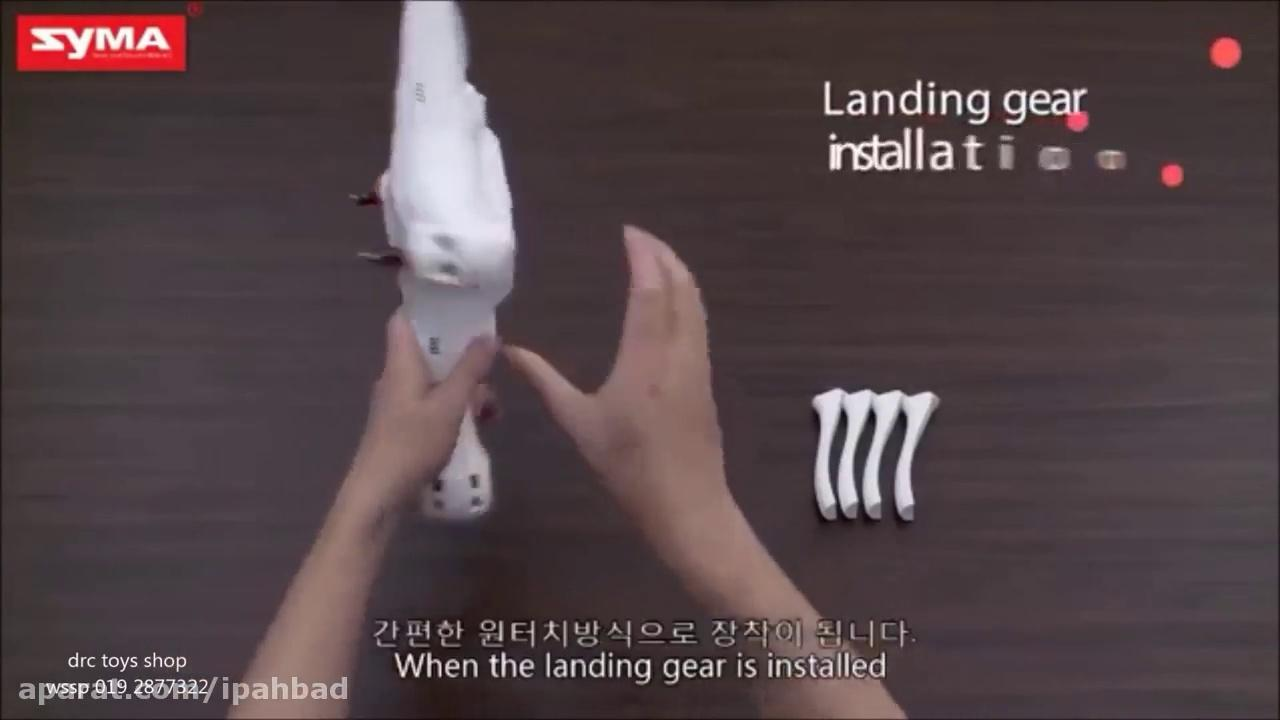drone: (347, 0, 518, 537)
